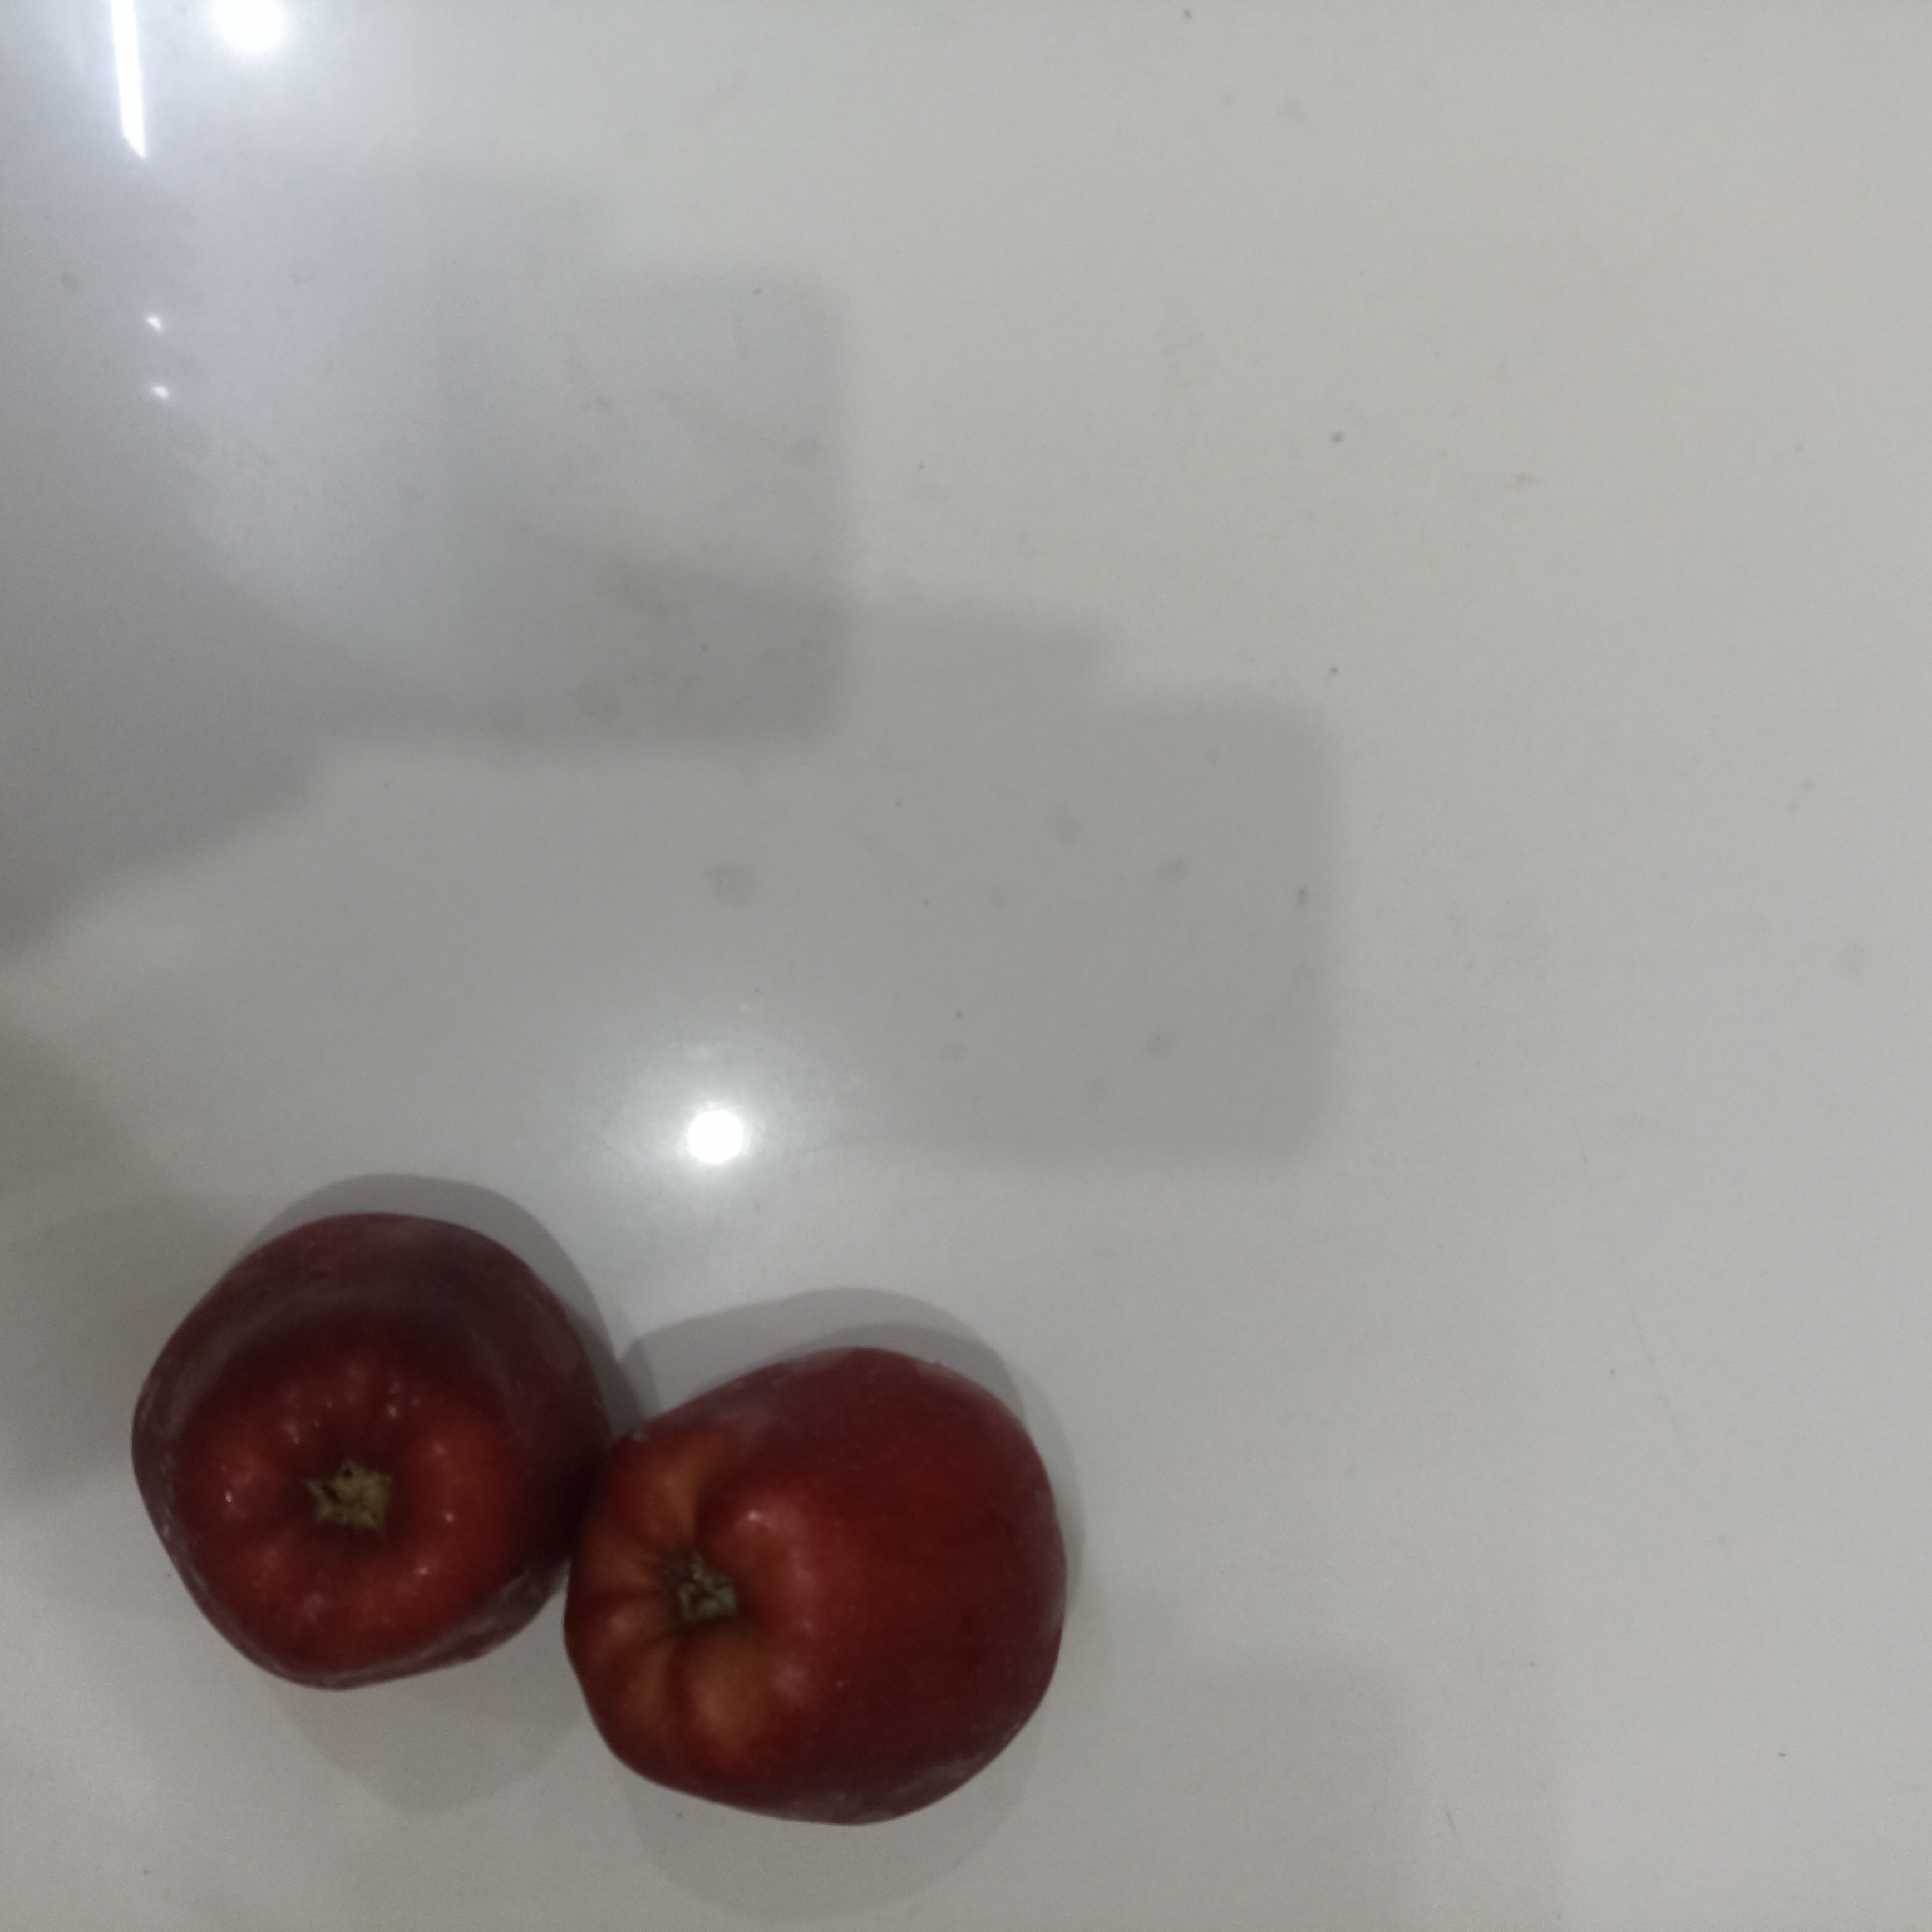Tao do: (564, 1348, 1068, 1827), (127, 1213, 604, 1690)
